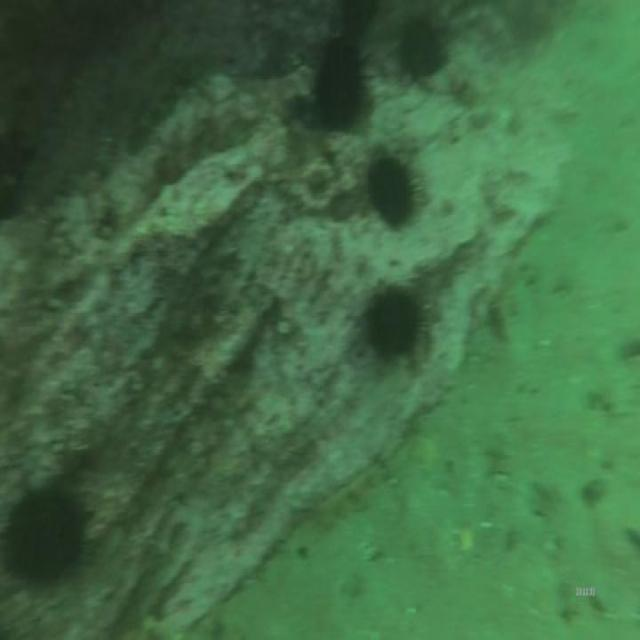echinus: (2, 477, 92, 596), (310, 30, 382, 138), (362, 275, 427, 374), (363, 150, 428, 236), (399, 11, 453, 90)
